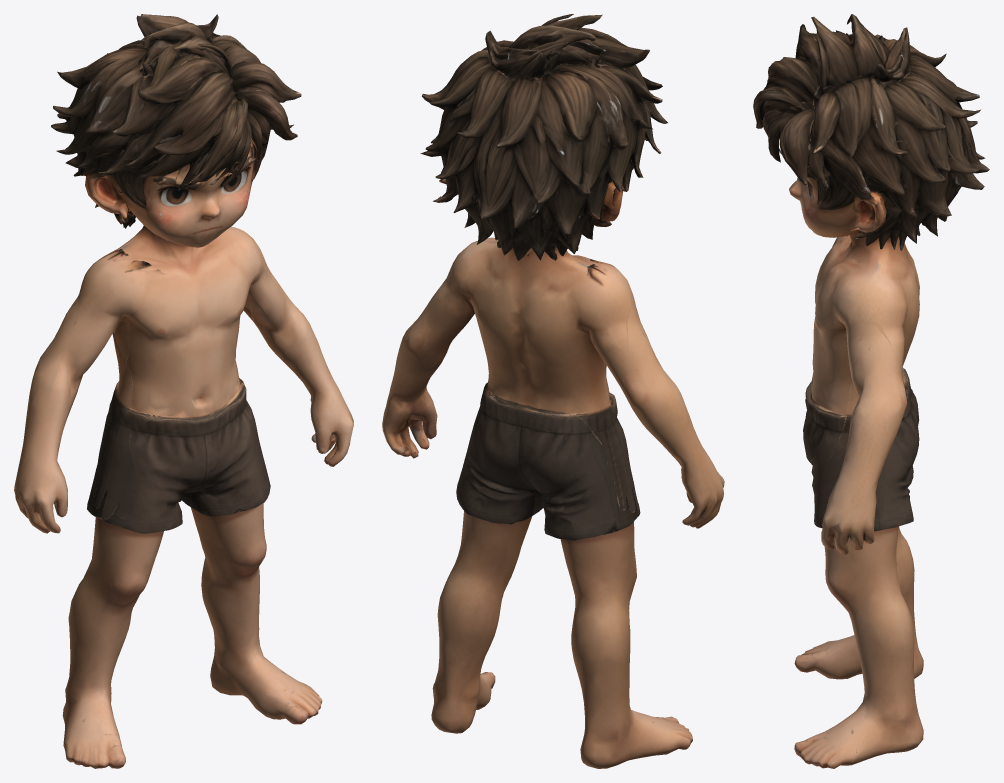
File: body.glb
The picture shows the model from 3 angles, left to right: view 1: azimuth 30°, elevation 25°; view 2: azimuth 150°, elevation 25°; view 3: azimuth 270°, elevation 25°; orthographic projection. The views are drawn at different scales.
Parts seen in each view (by area): view 1: texture_mapping; view 2: texture_mapping; view 3: texture_mapping.
Part boxes in pixels (bbox=[...]): texture_mapping: bbox=[14, 14, 353, 768]; texture_mapping: bbox=[382, 14, 724, 768]; texture_mapping: bbox=[753, 14, 989, 768].
Size of the model in its own units: 0.4905 by 0.9999 by 0.3124.
1 material, 1 textured.
